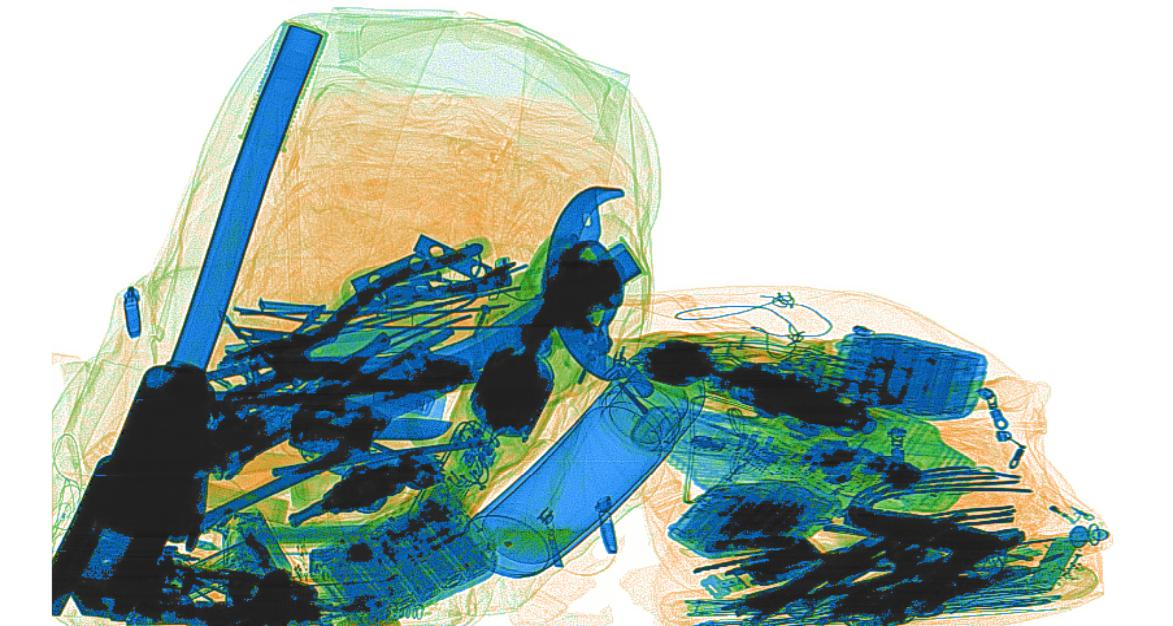battery: (312, 494, 490, 623), (832, 328, 983, 418), (671, 480, 831, 551)
lighter: (1037, 482, 1102, 536)
